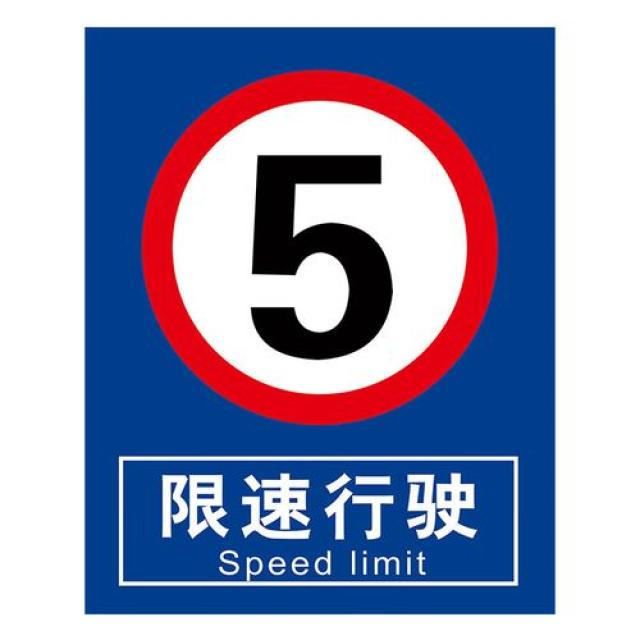speed limit 10: (139, 67, 500, 427)
